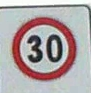limite 30: (10, 15, 77, 81)
